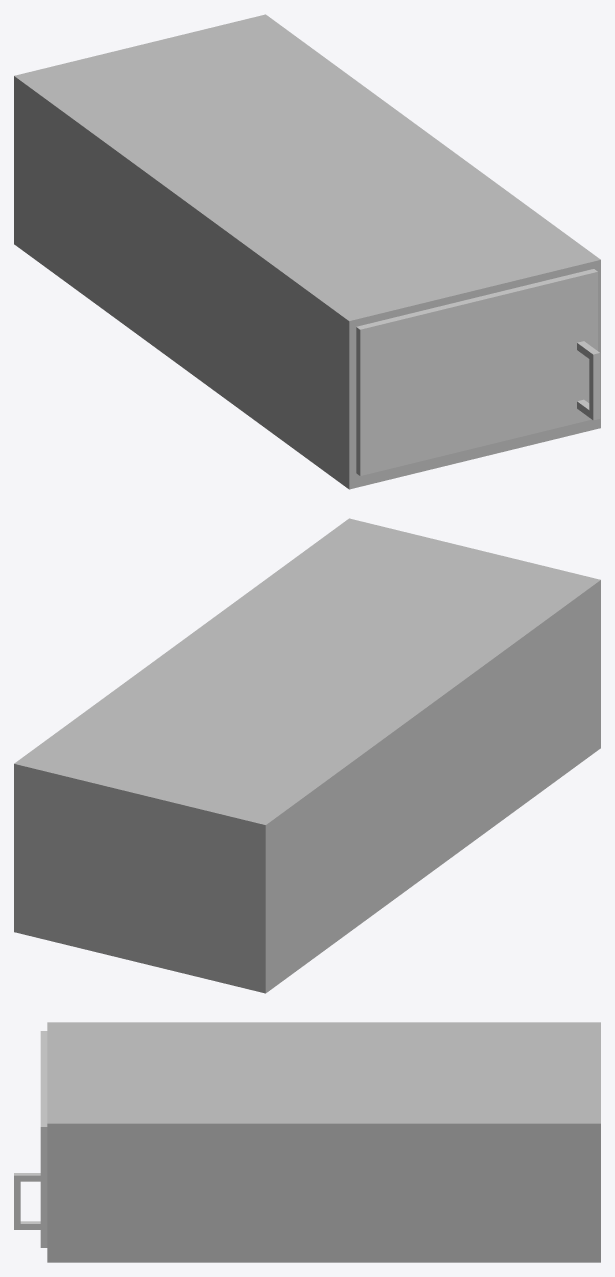
The model's file is Autopsy_room_bed3-3.fbx.
The picture shows the model from 3 angles, top to bottom: view 1: azimuth 30°, elevation 25°; view 2: azimuth 150°, elevation 25°; view 3: azimuth 270°, elevation 25°; orthographic projection. The views are drawn at different scales.
Parts seen in each view (by area): view 1: Autopsy room bed3-3, Autopsy room bed3-3.001; view 2: Autopsy room bed3-3; view 3: Autopsy room bed3-3, Autopsy room bed3-3.001.
Boxes of the visible parts, bbox=[...] form: Autopsy room bed3-3: bbox=[14, 14, 600, 489]; Autopsy room bed3-3.001: bbox=[356, 269, 600, 475]; Autopsy room bed3-3: bbox=[14, 518, 600, 993]; Autopsy room bed3-3: bbox=[47, 1022, 600, 1262]; Autopsy room bed3-3.001: bbox=[14, 1031, 47, 1247].
Size of the model in its own units: 3.6 by 2.3 by 8.8.
